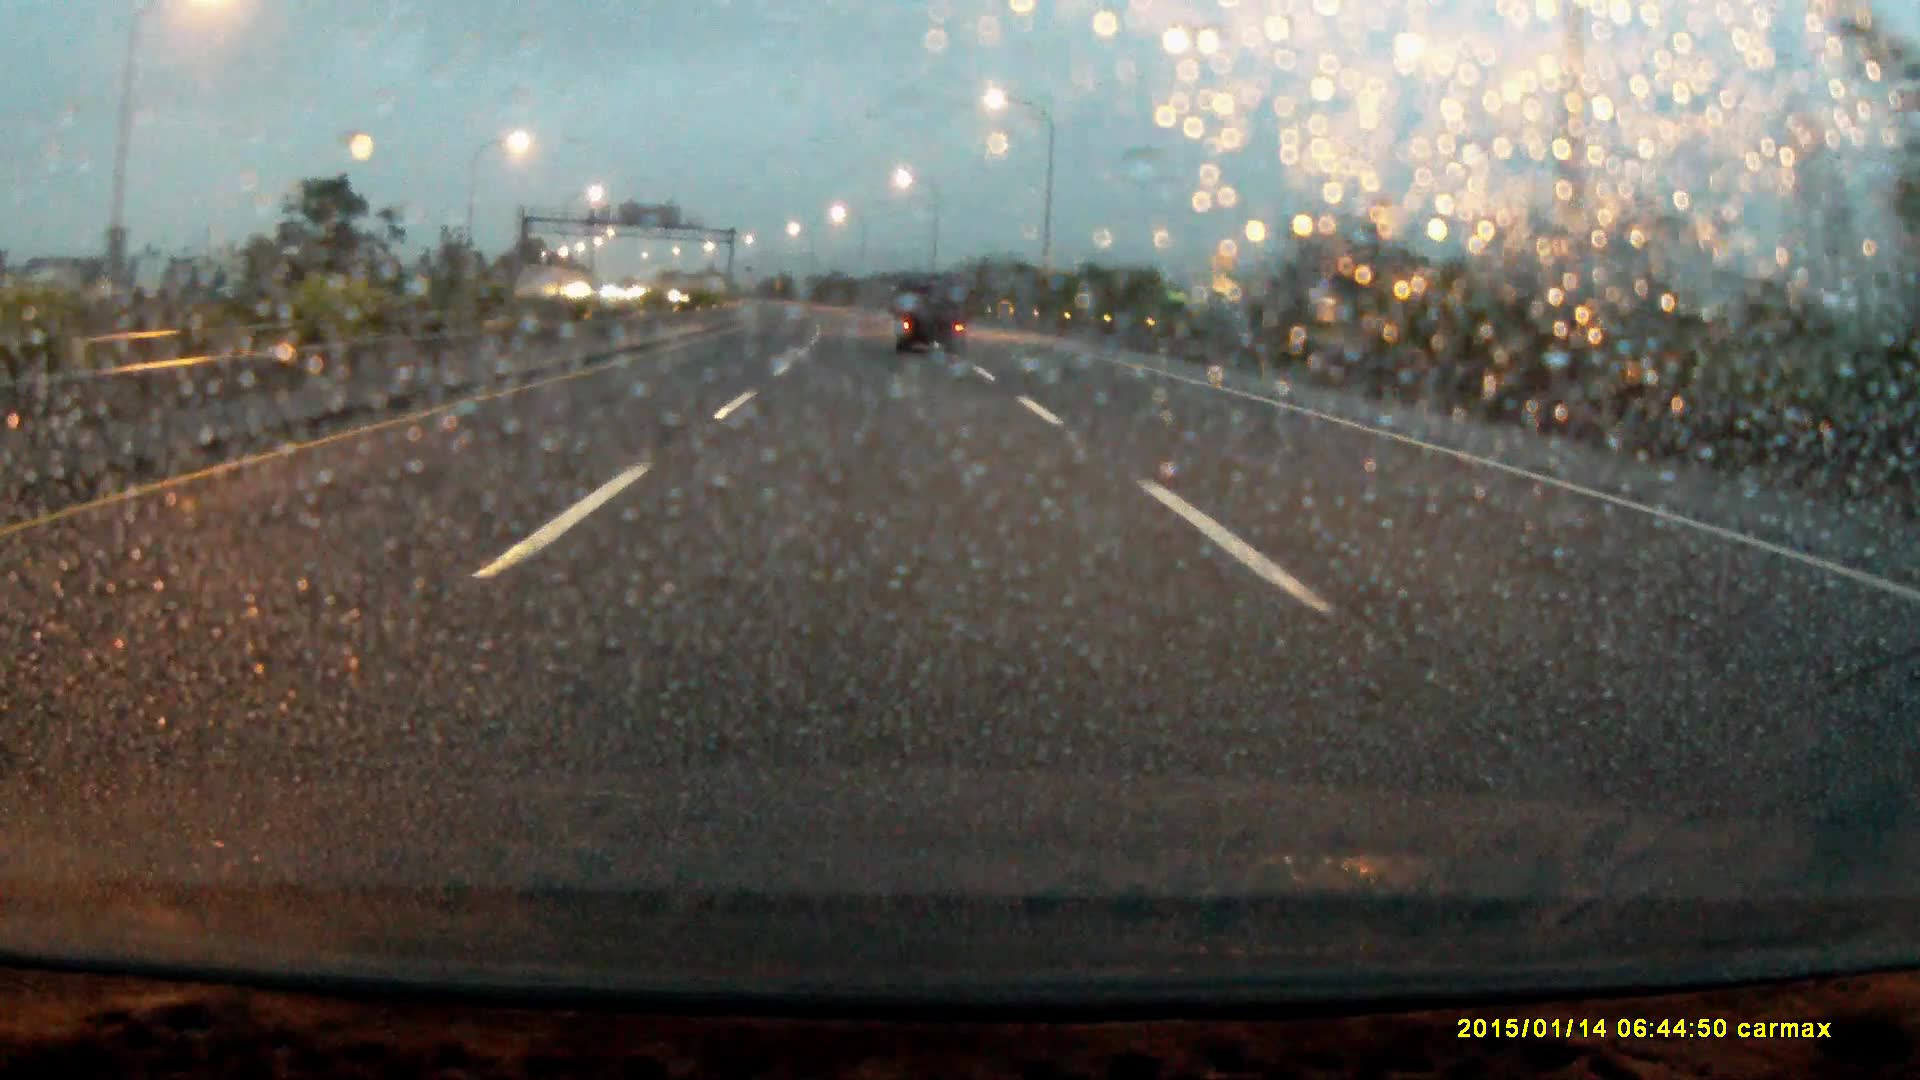vehicle: (895, 272, 969, 355)
